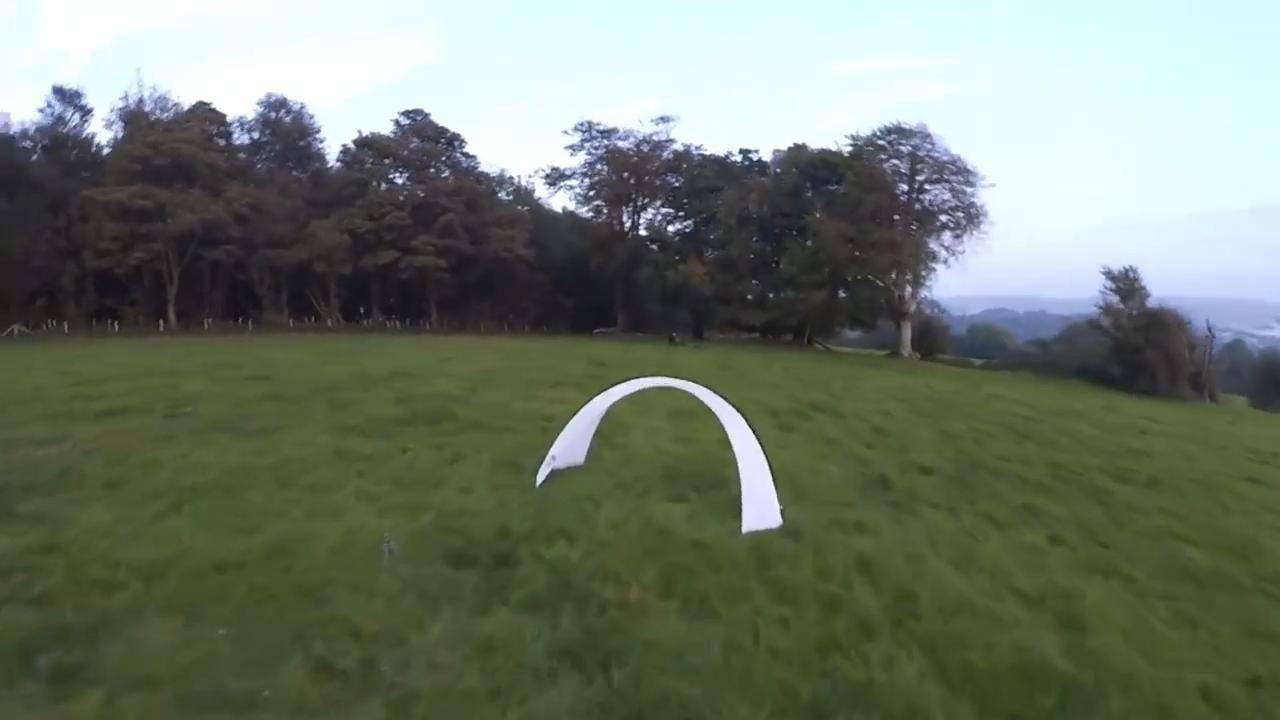gate: (537, 375, 785, 537)
